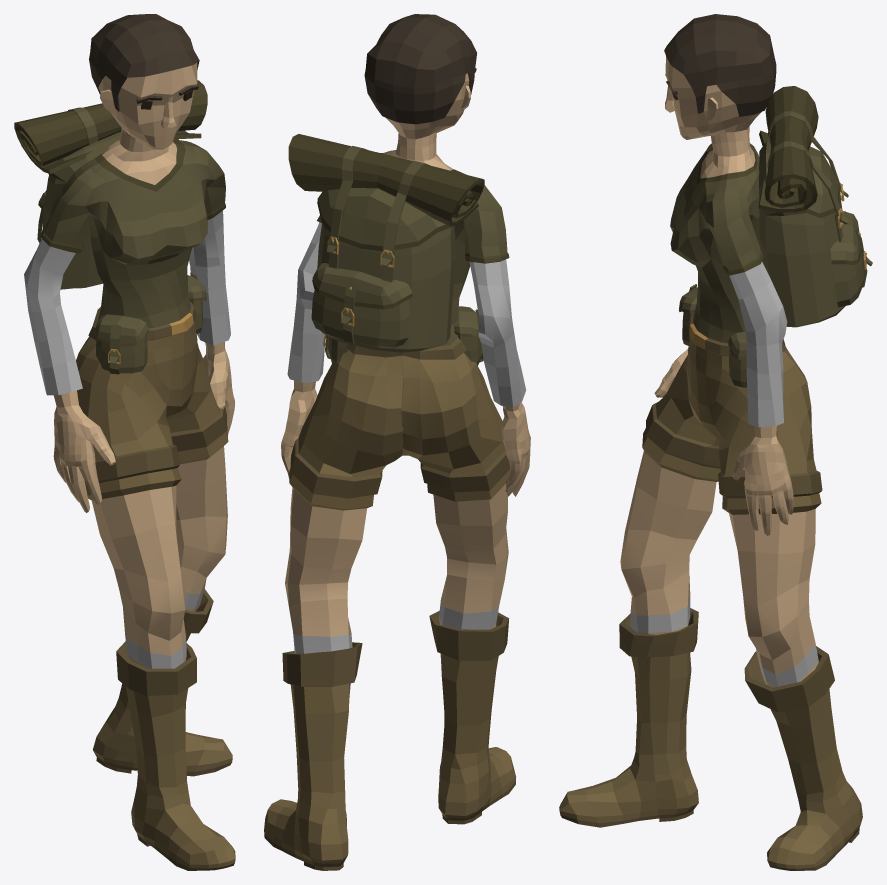
The model's file is Adventurer_static.glb.
3 views of the same model, side by side, from view 1: azimuth 30°, elevation 25°; view 2: azimuth 150°, elevation 25°; view 3: azimuth 270°, elevation 25° (orthographic).
Parts seen in each view (by area): view 1: Adventurer; view 2: Adventurer; view 3: Adventurer.
Boxes of the visible parts, x1,y1,x2,y2 form: Adventurer: [14, 14, 235, 870]; Adventurer: [264, 14, 530, 870]; Adventurer: [559, 14, 872, 870].
Bounding box in the file's own units: 0.5178 × 1.79 × 0.6348.
